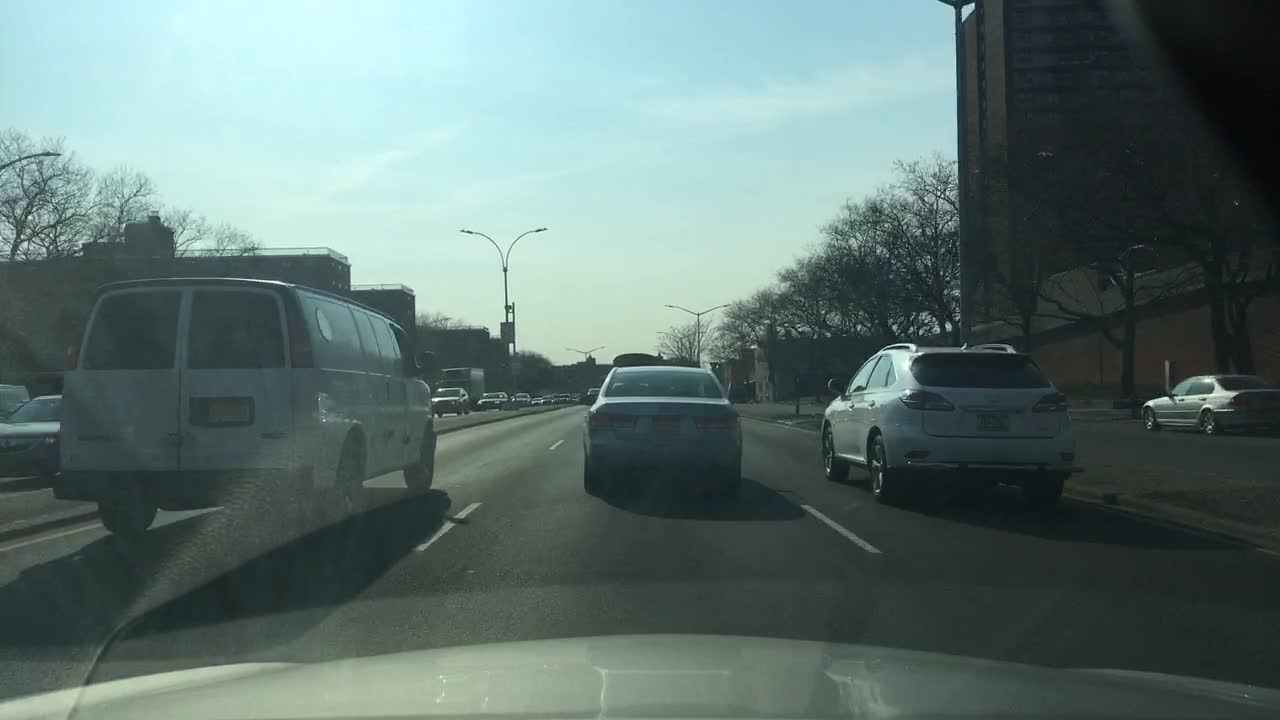car: (49, 277, 441, 535), (819, 342, 1085, 507), (582, 363, 744, 492), (1139, 373, 1278, 437), (0, 392, 64, 482), (432, 384, 474, 418), (0, 382, 31, 419), (477, 392, 507, 411), (728, 381, 749, 404), (585, 387, 602, 402), (515, 392, 532, 407), (503, 396, 517, 409), (560, 394, 572, 403), (569, 393, 580, 402), (552, 393, 562, 402), (542, 393, 550, 403), (532, 397, 543, 403)
